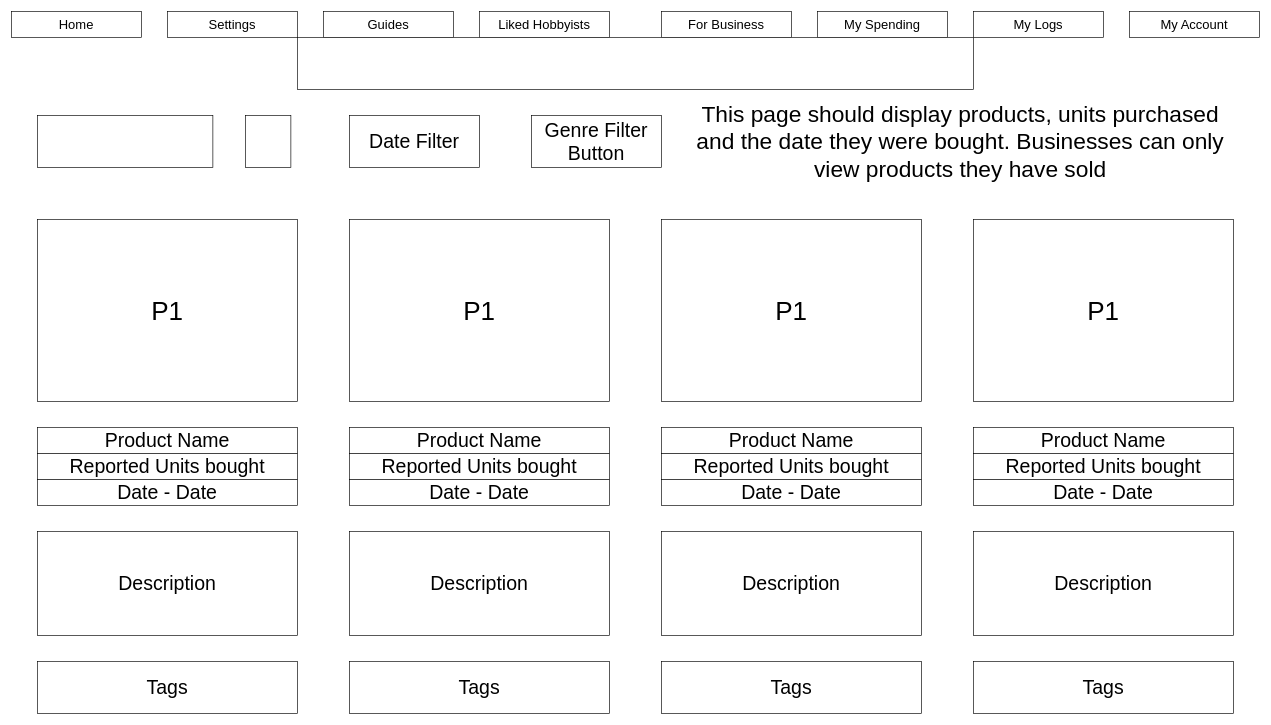
The diagram is 1271 pixels wide and 725 high, and some of its shapes have lost their labels. Each missing label, with the box of its shape:
Business Analytics: (297, 37, 973, 89)
Page #: (245, 115, 291, 167)
Product Search: (37, 115, 213, 167)
